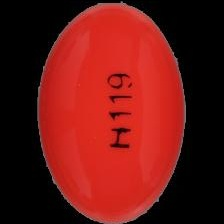23155-119: (0, 0, 224, 224)
